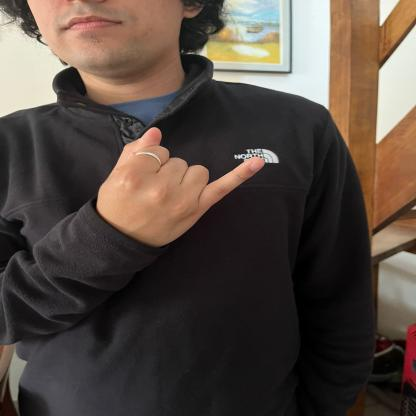J: (100, 124, 266, 246)
